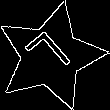L_SE: (21, 27, 80, 86)
